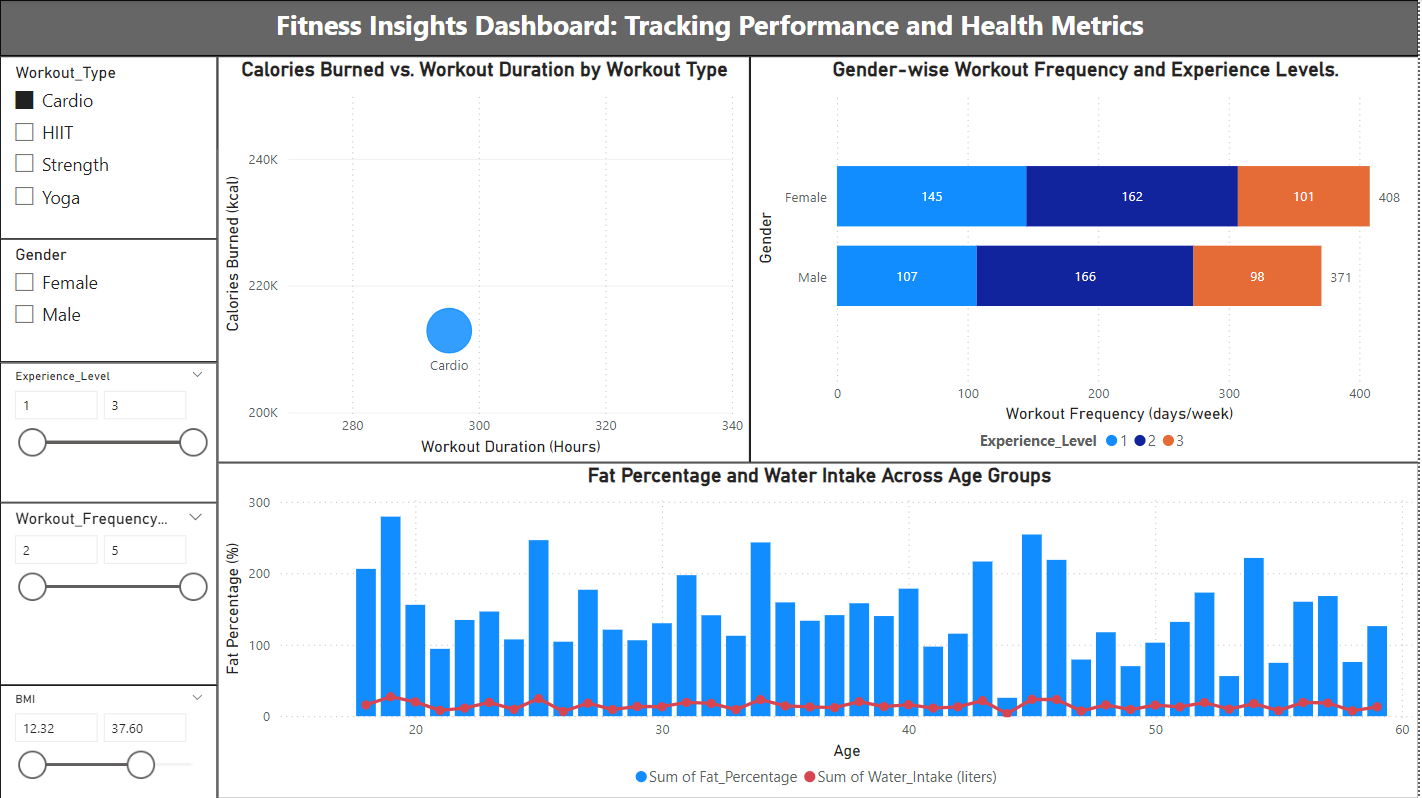

The page's visual inventory and layout, read from the dashboard file:
{"tool":"powerbi","page":{"name":"Page 1","canvas":[1280,720],"ordinal":0},"visuals":[{"type":"scatterChart","title":"Calories Burned vs. Workout Duration by Workout Type","fields":{"X":["Sum(gym_members_exercise_tracking.Session_Duration (hours))"],"Y":["Sum(gym_members_exercise_tracking.Calories_Burned)"],"Series":["gym_members_exercise_tracking.Workout_Type"],"Size":["Sum(gym_members_exercise_tracking.BMI)"]},"box":[196.2,50.8,480.3,366.4],"z":0},{"type":"lineClusteredColumnComboChart","title":"Fat Percentage and Water Intake Across Age Groups","fields":{"Category":["gym_members_exercise_tracking.Age"],"Y":["Sum(gym_members_exercise_tracking.Fat_Percentage)"],"Y2":["Sum(gym_members_exercise_tracking.Water_Intake (liters))"]},"box":[196.2,417.2,1084.1,303.3],"z":1000},{"type":"barChart","title":"Gender-wise Workout Frequency and Experience Levels.","fields":{"Category":["gym_members_exercise_tracking.Gender"],"Y":["Sum(gym_members_exercise_tracking.Workout_Frequency (days/week))"],"Series":["gym_members_exercise_tracking.Experience_Level"]},"box":[676.5,50.8,603.8,366.4],"z":2000},{"type":"slicer","fields":{"Values":["gym_members_exercise_tracking.Workout_Type"]},"box":[0,50.8,196.2,164.7],"z":3000},{"type":"slicer","fields":{"Values":["gym_members_exercise_tracking.Gender"]},"box":[0,215.4,196.2,111.1],"z":4000},{"type":"slicer","fields":{"Values":["gym_members_exercise_tracking.Experience_Level"]},"box":[0,326.6,196.2,126.2],"z":5000},{"type":"textbox","box":[0,0,1280.3,50.8],"z":5001},{"type":"slicer","fields":{"Values":["gym_members_exercise_tracking.Workout_Frequency (days/week)"]},"box":[0,452.8,196.2,164.7],"z":5002},{"type":"slicer","fields":{"Values":["gym_members_exercise_tracking.BMI"]},"box":[0,617.5,196.2,102.9],"z":5003}]}

Visuals, with their boxes in screenshot pixels (x1, y1, x2, y2), scaled from the page's 1280x720 canvas onto the 1422x798 screenshot:
"Calories Burned vs. Workout Duration by Workout Type" scatterChart: region(218, 56, 752, 462)
"Fat Percentage and Water Intake Across Age Groups" lineClusteredColumnComboChart: region(218, 462, 1421, 797)
"Gender-wise Workout Frequency and Experience Levels." barChart: region(752, 56, 1421, 462)
slicer - gym_members_exercise_tracking.Workout_Type: region(0, 56, 218, 239)
slicer - gym_members_exercise_tracking.Gender: region(0, 239, 218, 362)
slicer - gym_members_exercise_tracking.Experience_Level: region(0, 362, 218, 502)
textbox: region(0, 0, 1421, 56)
slicer - gym_members_exercise_tracking.Workout_Frequency (days/week): region(0, 502, 218, 684)
slicer - gym_members_exercise_tracking.BMI: region(0, 684, 218, 797)
